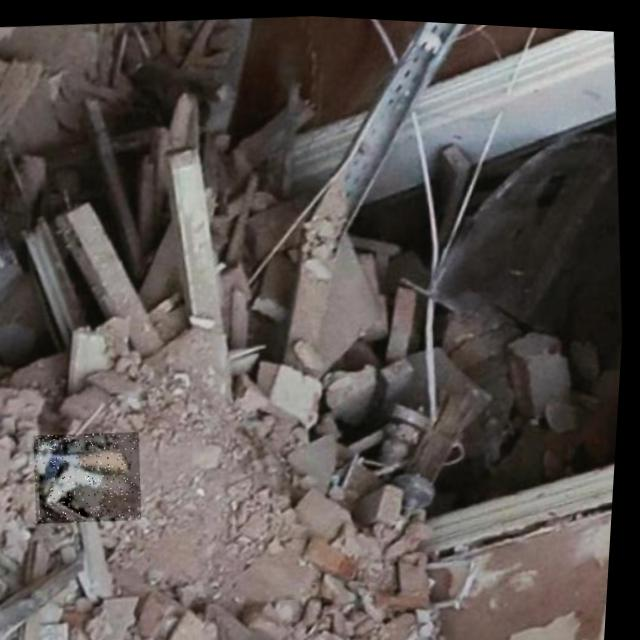Person in Rubble: (34, 425, 150, 527)
